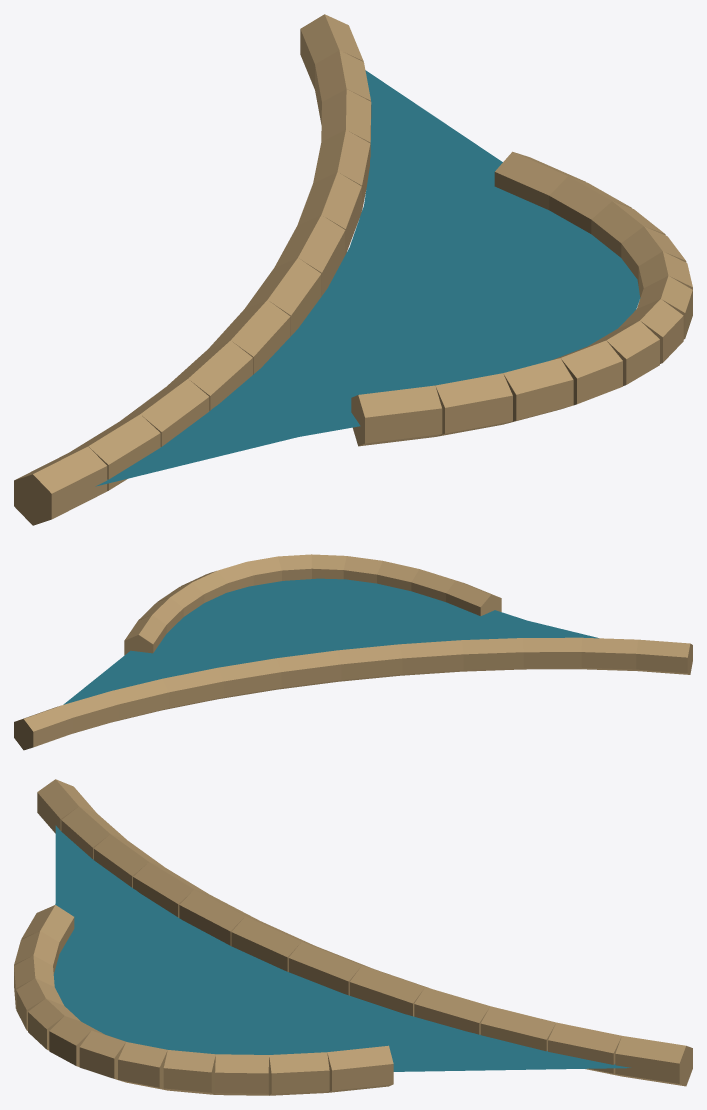
The model's file is terrain_river_bend.glb.
3 renders of one model, top to bottom at view 1: azimuth 30°, elevation 25°; view 2: azimuth 150°, elevation 25°; view 3: azimuth 270°, elevation 25°, orthographic. The views are drawn at different scales.
Parts seen in each view (by area): view 1: terrain_river_bend; view 2: terrain_river_bend; view 3: terrain_river_bend.
Boxes of the visible parts, <box> form: terrain_river_bend: <box>14,14,692,525</box>; terrain_river_bend: <box>14,554,692,750</box>; terrain_river_bend: <box>14,779,692,1095</box>.
Bounding box in the file's own units: 8.45 × 0.56 × 8.45.
